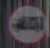Heavy Vehicles: (6, 3, 47, 47)
